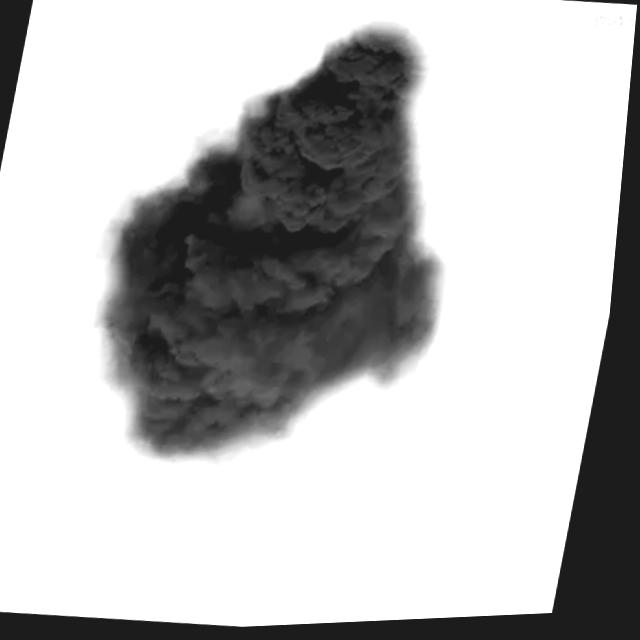Smoke: (80, 8, 495, 496)
